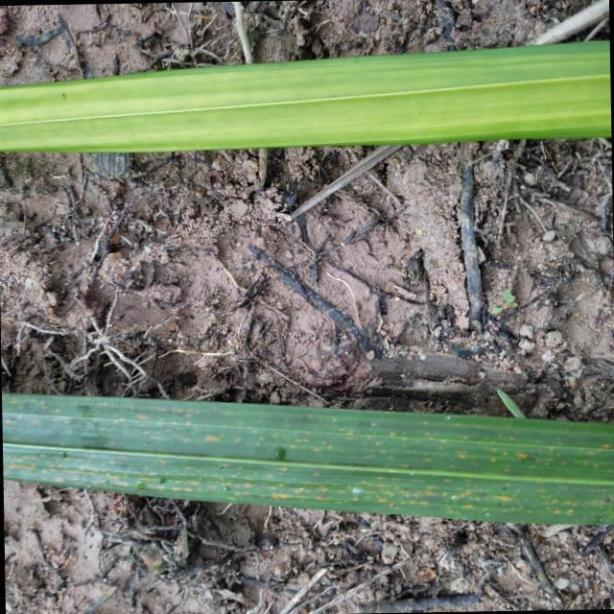nitrogen: (6, 389, 614, 526), (0, 40, 614, 157)
